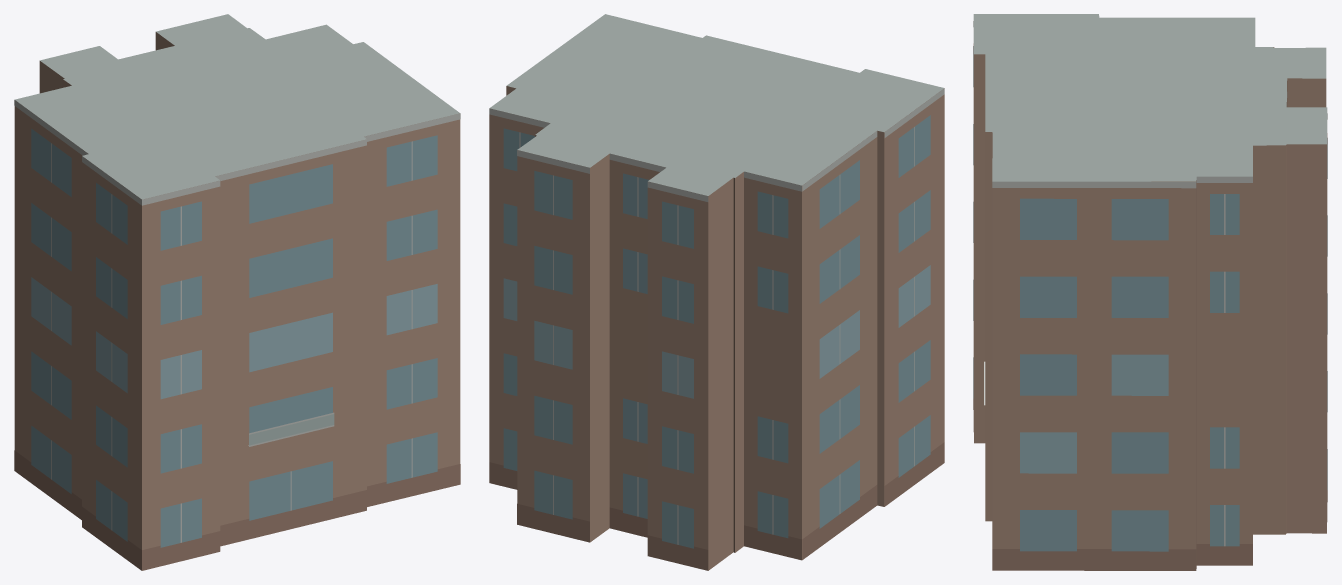
Rendered from survey-upis-32966857.glb.
3 renders of one model, left to right at view 1: azimuth 30°, elevation 25°; view 2: azimuth 150°, elevation 25°; view 3: azimuth 270°, elevation 25°, orthographic. The views are drawn at different scales.
Visible parts, largest first — view 1: survey-upis-32966857.tmp; view 2: survey-upis-32966857.tmp; view 3: survey-upis-32966857.tmp.
Boxes of the visible parts, box(x1,y1,x2,y2) form: survey-upis-32966857.tmp: box(14, 14, 460, 570); survey-upis-32966857.tmp: box(489, 14, 944, 570); survey-upis-32966857.tmp: box(973, 14, 1327, 570).
Bounding box in the file's own units: 13.74 × 14.85 × 12.25.
